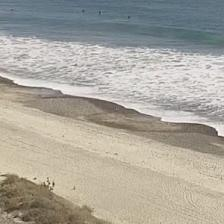surfer: (98, 10, 101, 14), (10, 9, 16, 11), (128, 16, 131, 19), (83, 9, 85, 12), (223, 23, 224, 27)
